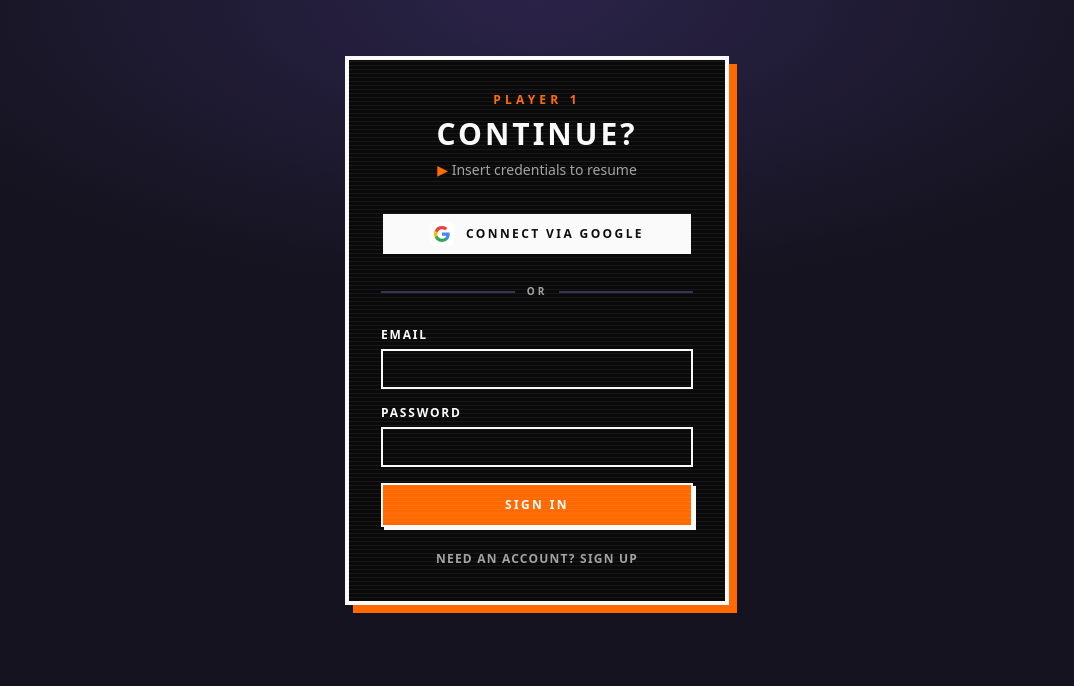
Test: LoginPage › surfaces a Google sign-in error instead of dropping it
The width and height of the screenshot is (1074, 686).
Click the button "Connect via Google". click: (537, 234)
box: 381,212 -> 693,256
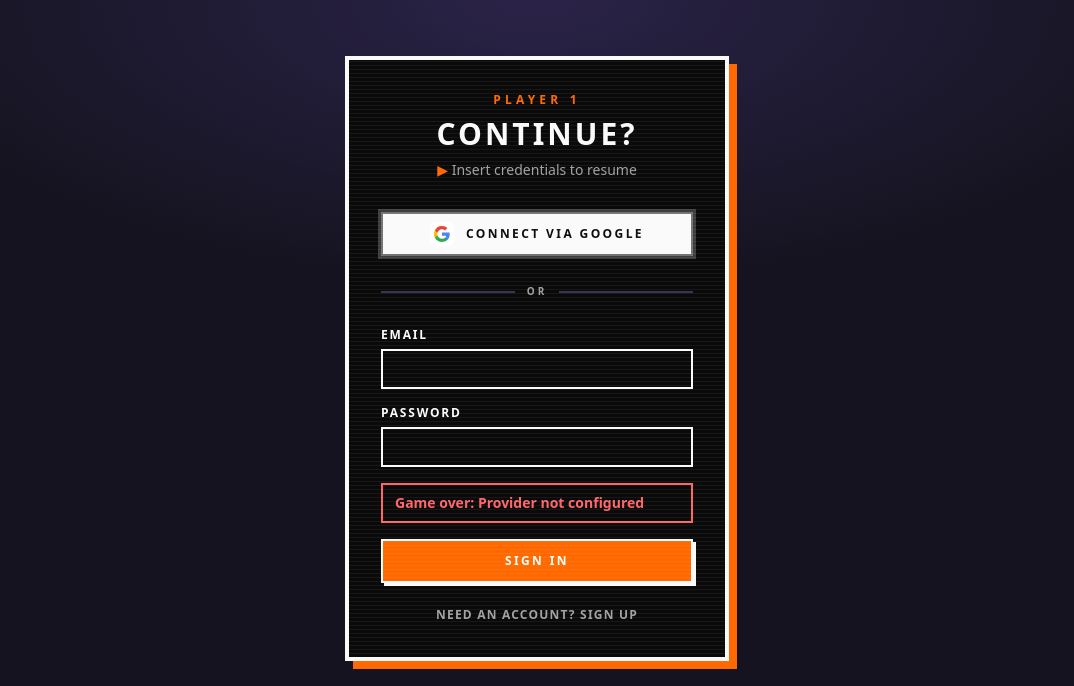
Check: the message shows "Provider not configured", box 478,493 -> 644,512
